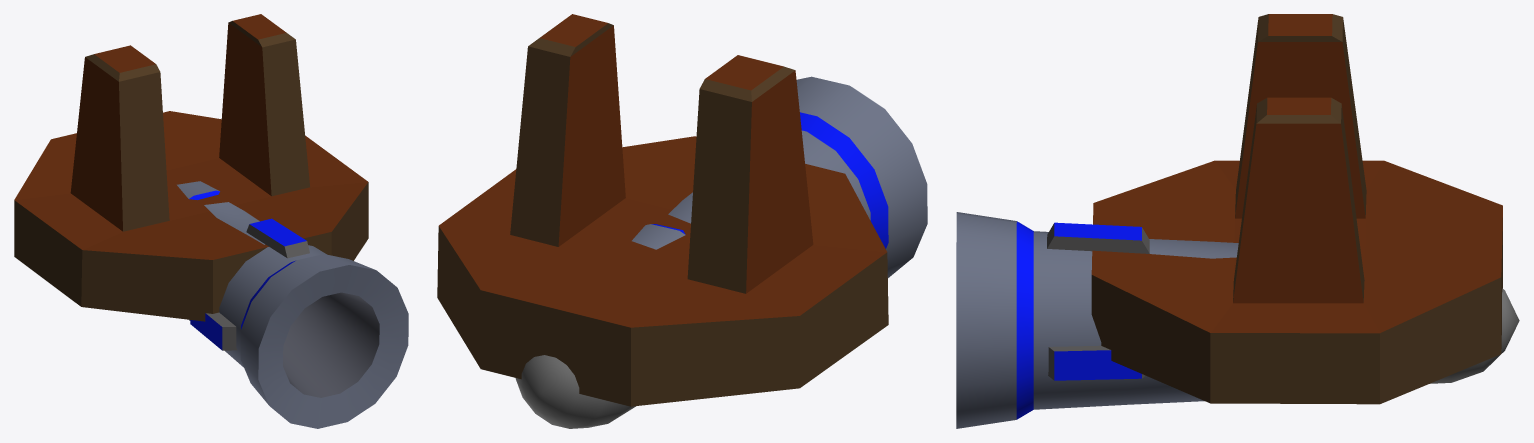
File: Cannon3.fbx
3 renders of one model, left to right at view 1: azimuth 30°, elevation 25°; view 2: azimuth 150°, elevation 25°; view 3: azimuth 270°, elevation 25°, orthographic. The views are drawn at different scales.
Visible parts, largest first — view 1: Rotater002, Cannon002; view 2: Rotater002, Cannon002; view 3: Rotater002, Cannon002.
Part boxes in pixels (x1,y1,x2,y2): Rotater002: (14,14,368,321); Cannon002: (177,181,408,428); Rotater002: (437,14,888,406); Cannon002: (515,76,927,428); Rotater002: (1091,14,1502,404); Cannon002: (956,212,1519,428).
Size of the model in its own units: 86.99 by 81.79 by 119.
